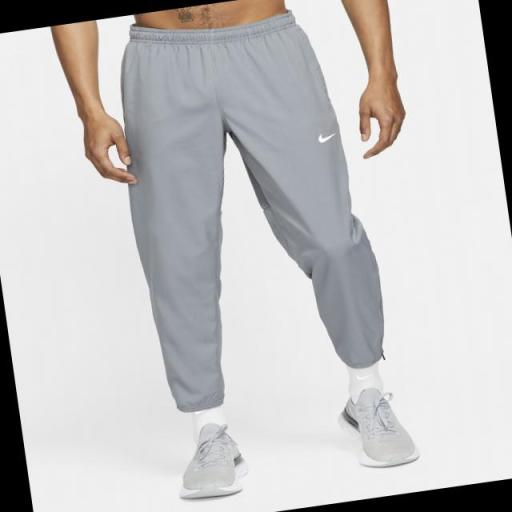Nike: (308, 126, 342, 147)
